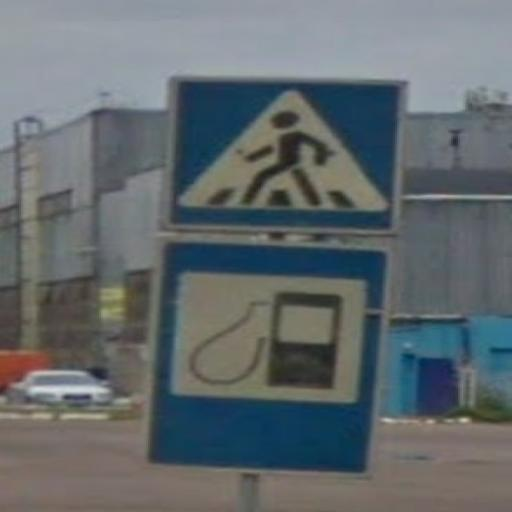traffic_sign: (142, 237, 395, 480), (161, 73, 410, 236)
